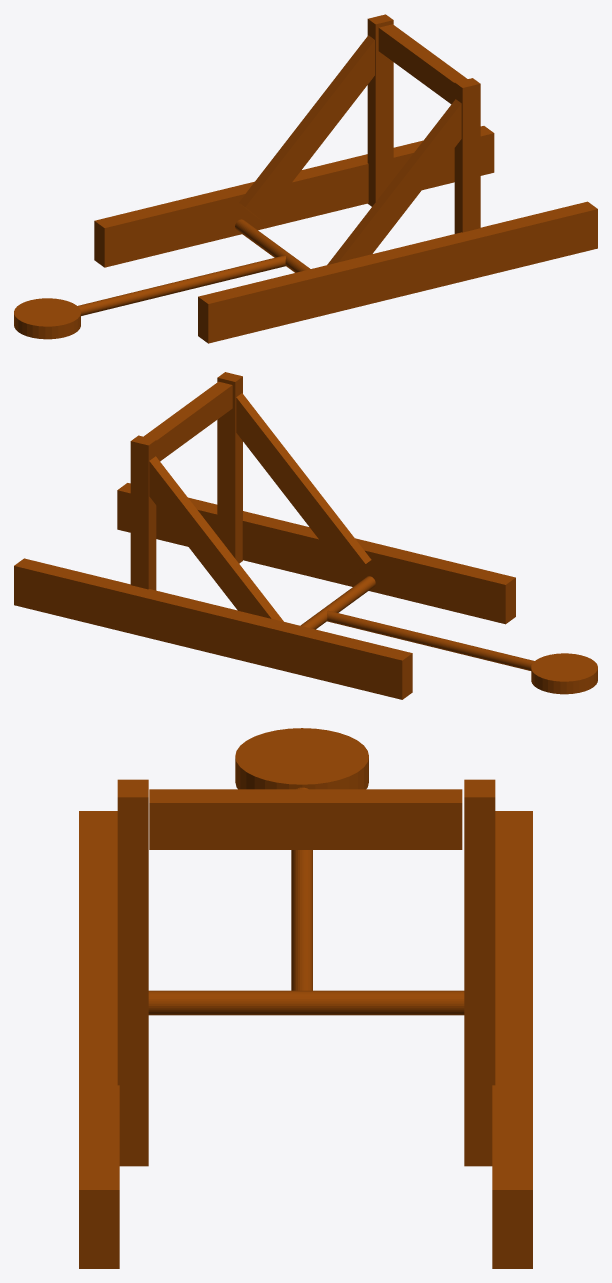
Rendered from Catapult.fbx.
3 views of the same model, one above another, from view 1: azimuth 30°, elevation 25°; view 2: azimuth 150°, elevation 25°; view 3: azimuth 270°, elevation 25° (orthographic). The views are drawn at different scales.
Parts seen in each view (by area): view 1: Cube, Cube.001, Cube.005, Cube.002, Cube.004, Cube.003, Cube.006, Cylinder.001, Cylinder.002, Cylinder; view 2: Cube.001, Cube, Cube.002, Cube.005, Cube.003, Cube.004, Cube.006, Cylinder.001, Cylinder.002, Cylinder; view 3: Cube.006, Cube, Cube.001, Cube.003, Cube.004, Cylinder, Cylinder.002, Cylinder.001.
Boxes of the visible parts, x1=… form: Cube: x1=198, y1=201, x2=597, y2=343; Cube.001: x1=94, y1=126, x2=494, y2=267; Cube.005: x1=239, y1=35, x2=374, y2=220; Cube.002: x1=327, y1=99, x2=461, y2=264; Cube.004: x1=367, y1=14, x2=393, y2=206; Cube.003: x1=454, y1=78, x2=480, y2=233; Cube.006: x1=378, y1=24, x2=467, y2=104; Cylinder.001: x1=77, y1=255, x2=285, y2=315; Cylinder.002: x1=14, y1=298, x2=80, y2=339; Cylinder: x1=235, y1=219, x2=310, y2=272; Cube.001: x1=14, y1=558, x2=412, y2=699; Cube: x1=117, y1=483, x2=515, y2=624; Cube.002: x1=236, y1=393, x2=371, y2=577; Cube.005: x1=149, y1=456, x2=283, y2=621; Cube.003: x1=217, y1=372, x2=242, y2=563; Cube.004: x1=130, y1=435, x2=156, y2=590; Cube.006: x1=144, y1=381, x2=232, y2=461; Cylinder.001: x1=327, y1=610, x2=534, y2=670; Cylinder.002: x1=531, y1=653, x2=597, y2=694; Cylinder: x1=300, y1=576, x2=375, y2=629; Cube.006: x1=149, y1=789, x2=462, y2=849; Cube: x1=79, y1=811, x2=119, y2=1268; Cube.001: x1=492, y1=811, x2=532, y2=1268; Cube.003: x1=117, y1=779, x2=148, y2=1166; Cube.004: x1=464, y1=779, x2=495, y2=1166; Cylinder: x1=148, y1=990, x2=464, y2=1015; Cylinder.002: x1=235, y1=728, x2=368, y2=789; Cylinder.001: x1=291, y1=787, x2=312, y2=990.
Size of the model in its own units: 712 by 240 by 268.
